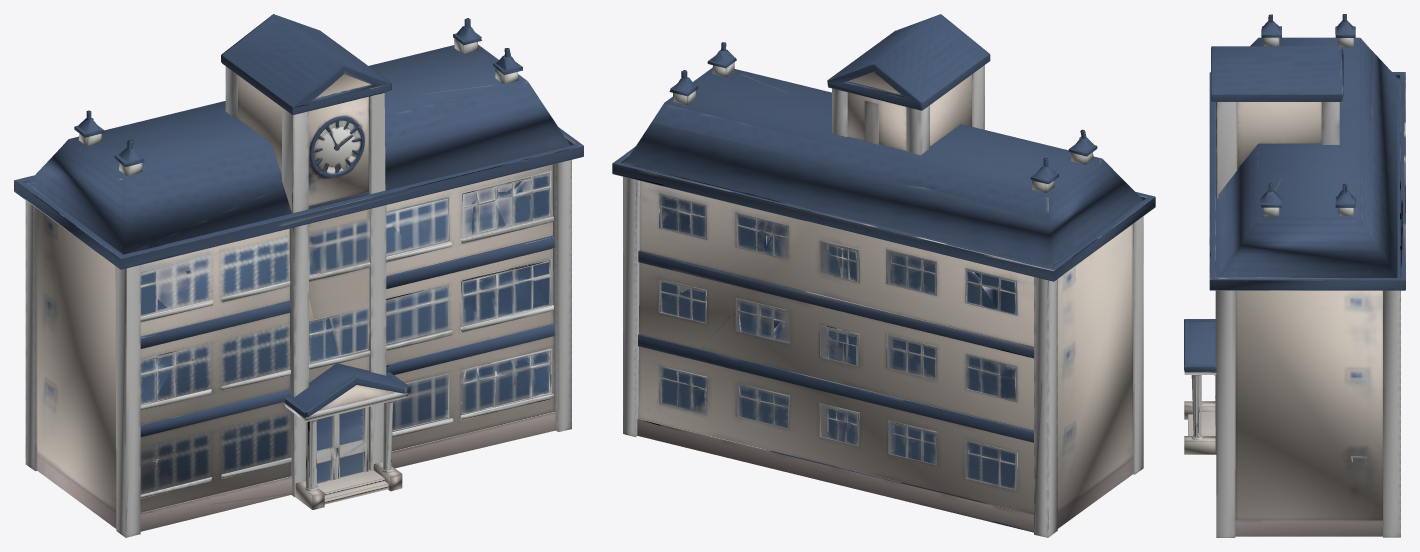
The model's file is school.glb.
3 views of the same model, side by side, from view 1: azimuth 30°, elevation 25°; view 2: azimuth 150°, elevation 25°; view 3: azimuth 270°, elevation 25° (orthographic). The views are drawn at different scales.
Parts seen in each view (by area): view 1: geometry_0; view 2: geometry_0; view 3: geometry_0.
Part boxes in pixels (bbox=[...]): geometry_0: bbox=[14, 14, 583, 537]; geometry_0: bbox=[612, 14, 1155, 537]; geometry_0: bbox=[1184, 14, 1405, 537].
Bounding box in the file's own units: 0.9497 × 0.8286 × 0.4282.
1 material, 1 textured.
